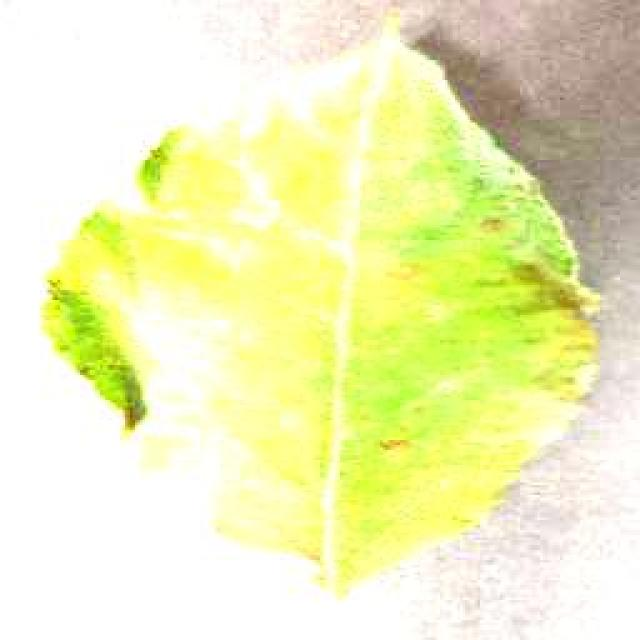apple healthy: (37, 10, 605, 598)
